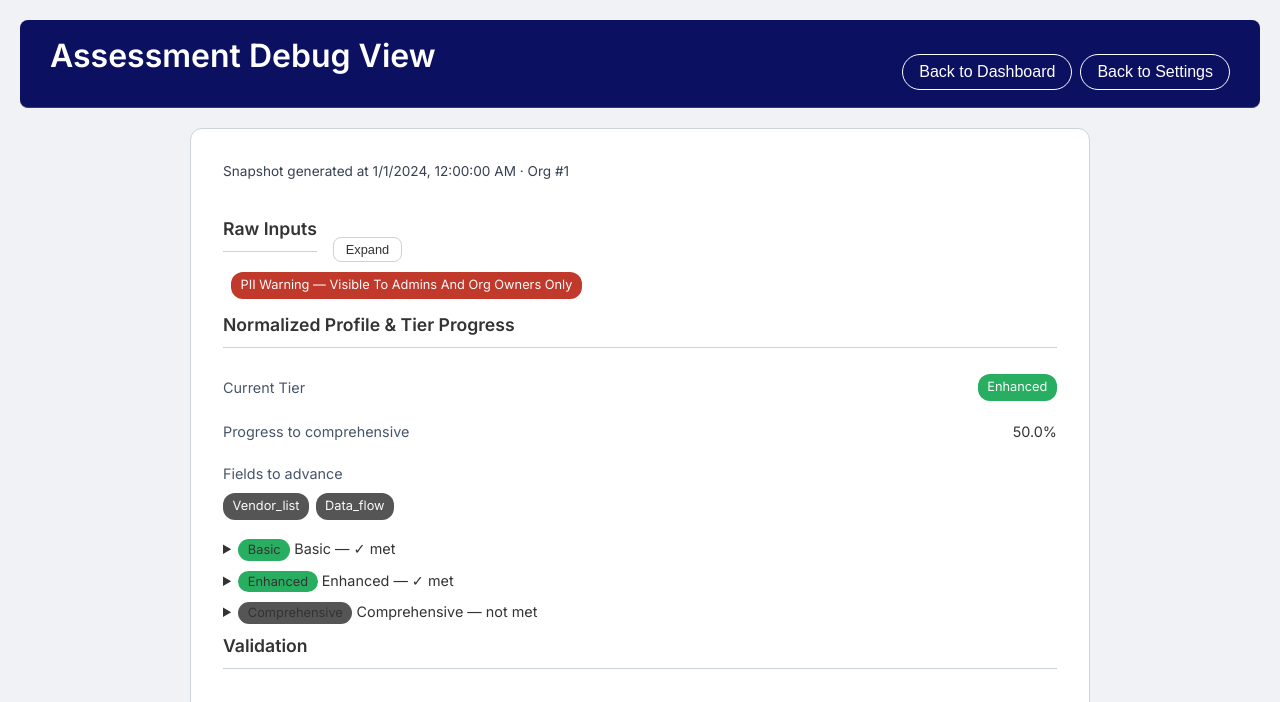
it: AssessmentDebugPage › Raw Profile Section › collapses raw profile when clicking collapse
Step 1. Click the button "Expand" → (368, 250), box [333,237,402,262]
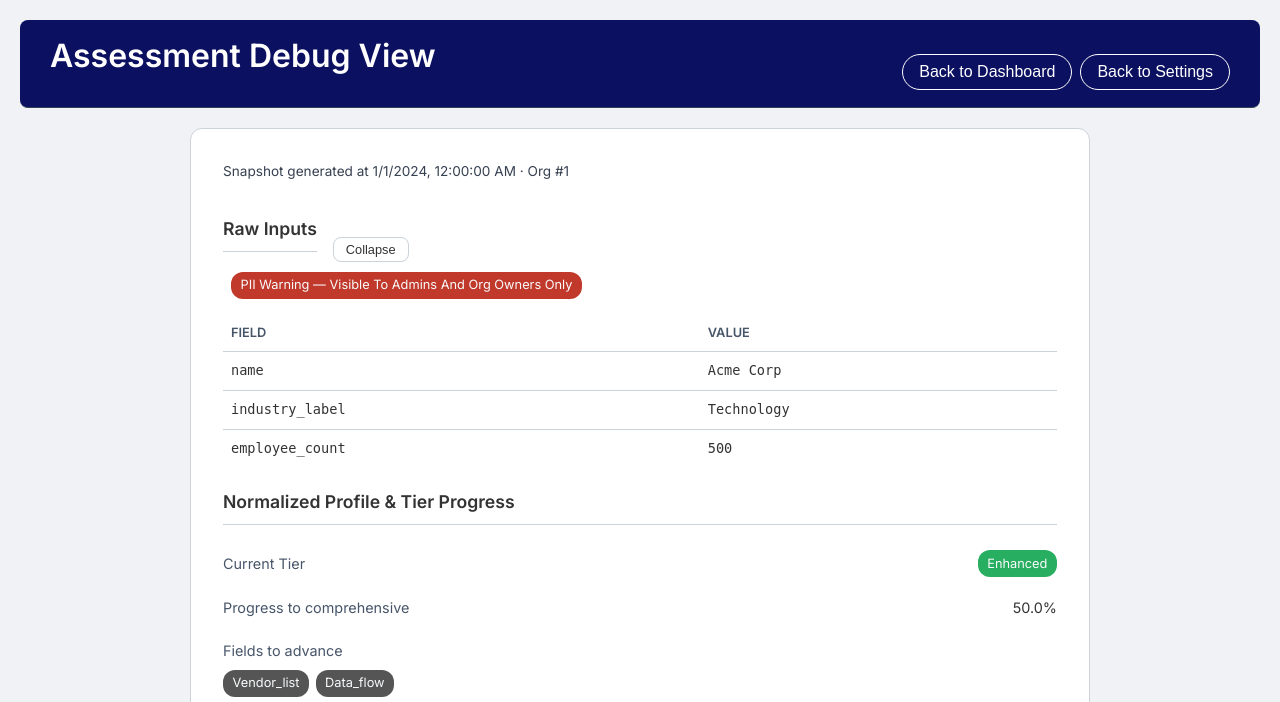
Expected: the button "Collapse" is shown
Step 2. Click the button "Collapse" → (371, 250), box [333,237,409,262]
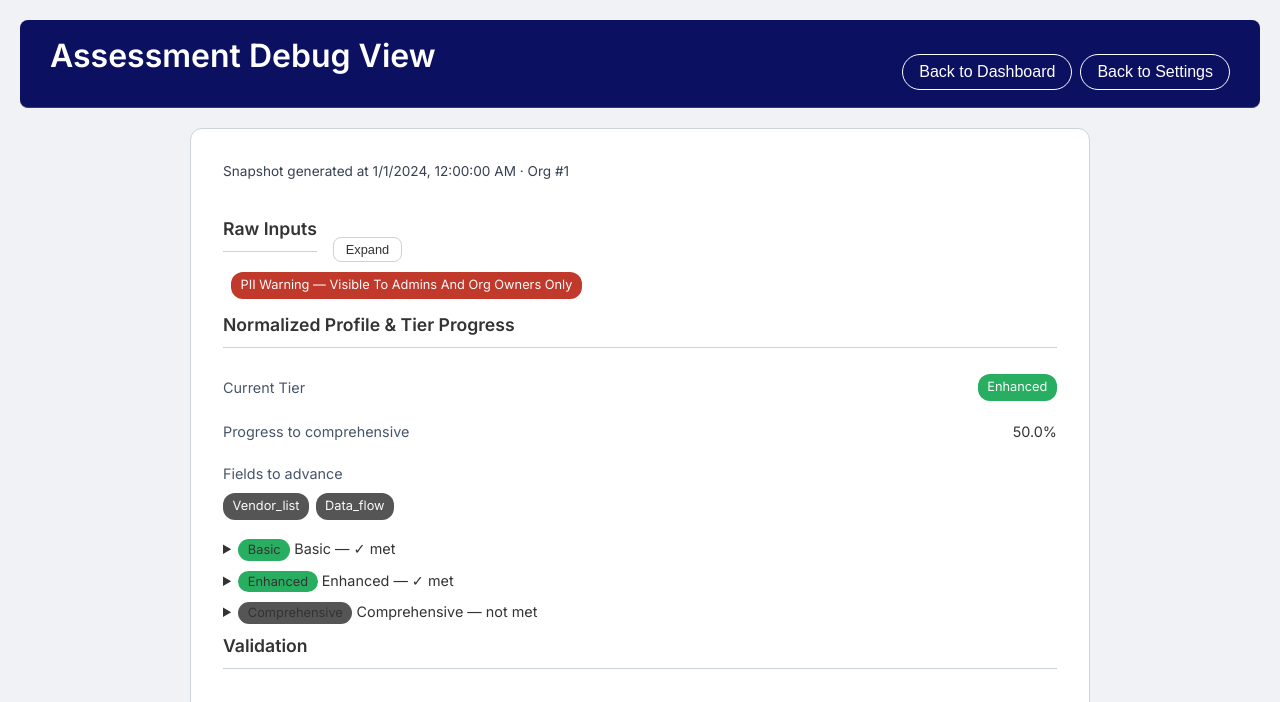
Expected: the button "Expand" is shown, [333,237,402,262]
